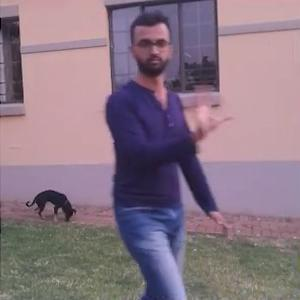follow_hand: (188, 81, 235, 136)
